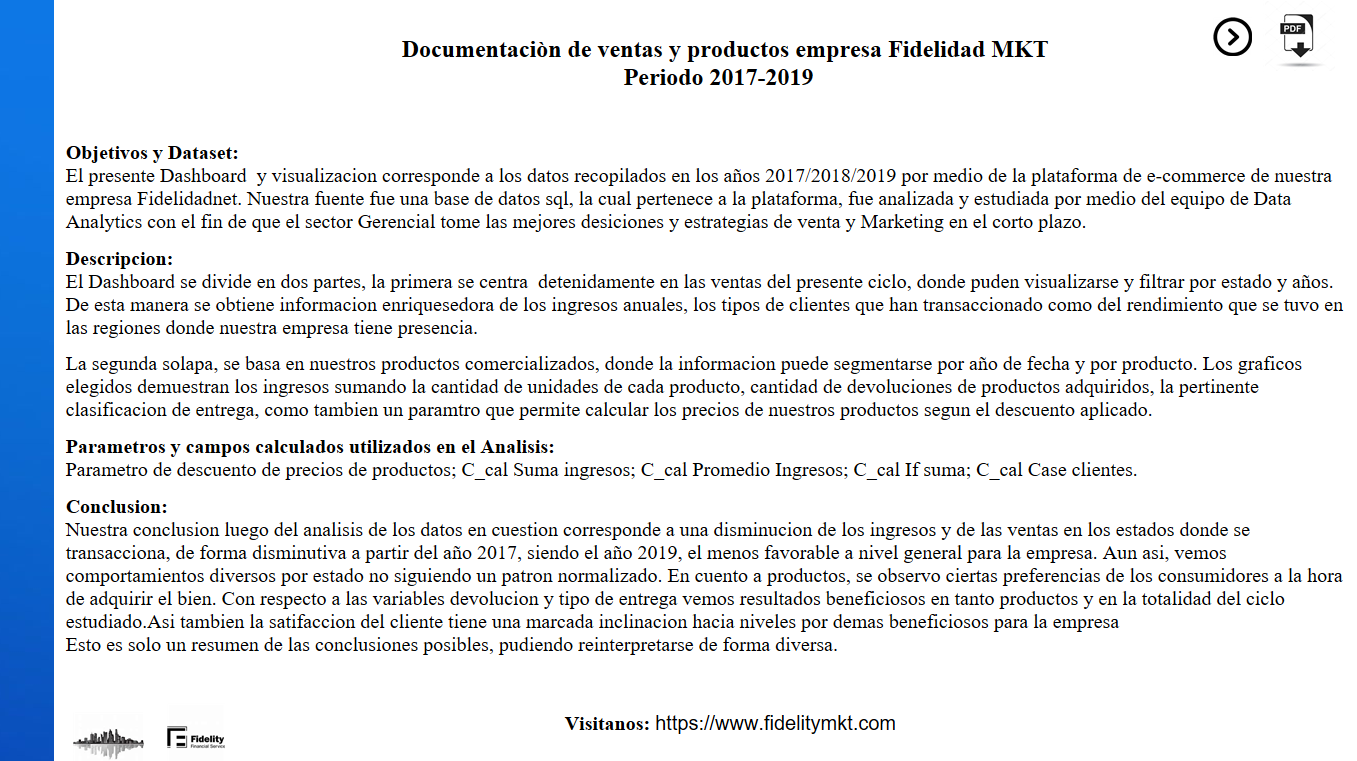

The dashboard page shown, as its layout file describes it:
{"tool":"tableau","page":{"name":"Portada","canvas":[1366,768],"ordinal":2},"visuals":[{"type":"dashboard-object","box":[1240,3,127,73]},{"type":"text","box":[403,16,762,103]},{"type":"dashboard-object","box":[1210,21,53,39]},{"type":"text","box":[67,110,1290,573]},{"type":"text","box":[520,233,100,30]},{"type":"text","box":[566,699,471,57]}]}

Visuals, with their boxes in screenshot pixels (x1, y1, x2, y2), scaled from the page's 1366x768 canvas onto the 1357x761 screenshot:
dashboard-object: {"left": 1232, "top": 3, "right": 1356, "bottom": 75}
text: {"left": 400, "top": 16, "right": 1157, "bottom": 118}
dashboard-object: {"left": 1202, "top": 21, "right": 1255, "bottom": 59}
text: {"left": 67, "top": 109, "right": 1348, "bottom": 677}
text: {"left": 517, "top": 231, "right": 616, "bottom": 261}
text: {"left": 562, "top": 693, "right": 1030, "bottom": 749}
